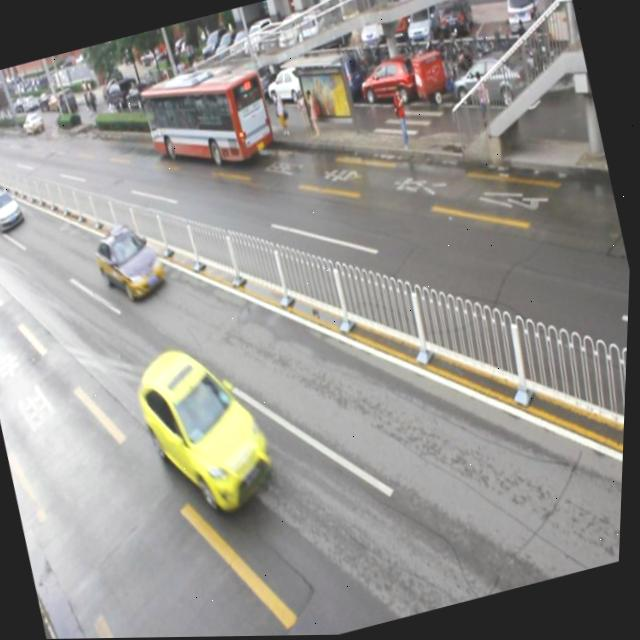car: (128, 329, 288, 529), (90, 216, 173, 308)
van: (136, 56, 279, 185)
